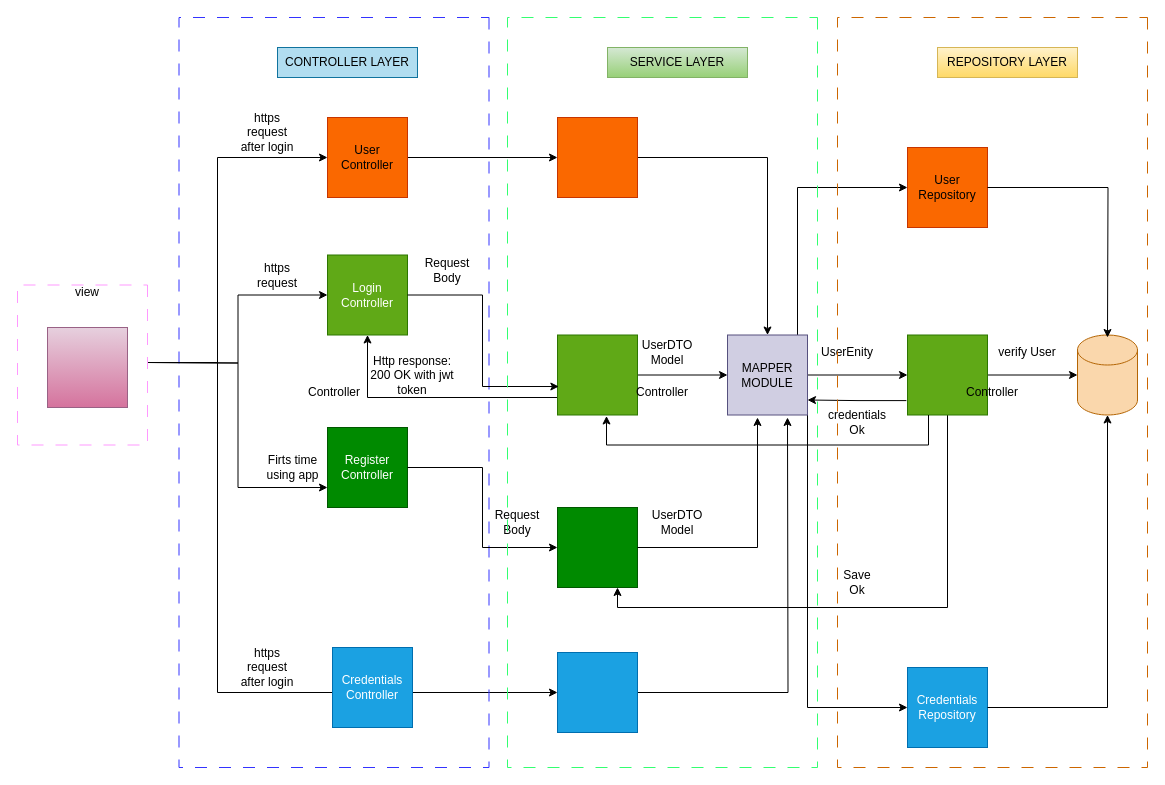
Image size: 1165x785. Some labels were removed from this diagram. The box of each missing label's shape, as (x1, y1, x2, y2) in pixels:
Client: (46, 326, 128, 408)
Credentials Service: (556, 652, 638, 732)
DB: (1076, 334, 1138, 415)
Login and Register Repository: (906, 334, 988, 415)
Login Service: (556, 334, 638, 415)
Registration Service: (556, 506, 638, 588)
User Service: (556, 116, 638, 198)
